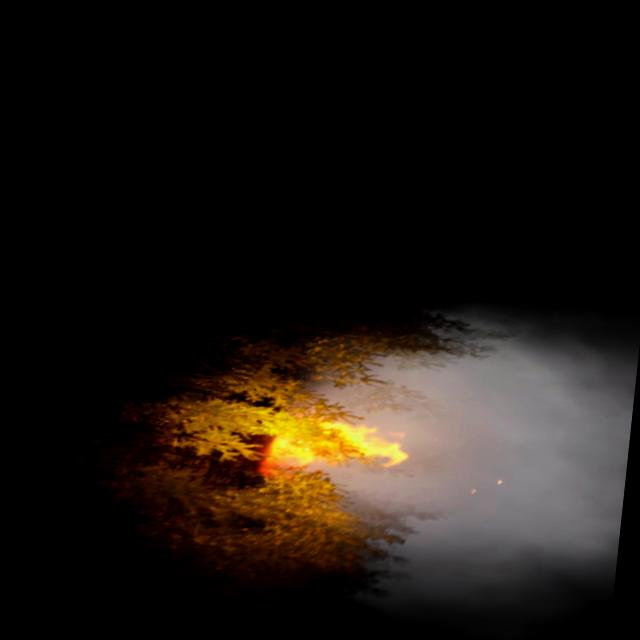fire: (264, 412, 414, 478)
smoke: (276, 288, 640, 640)
